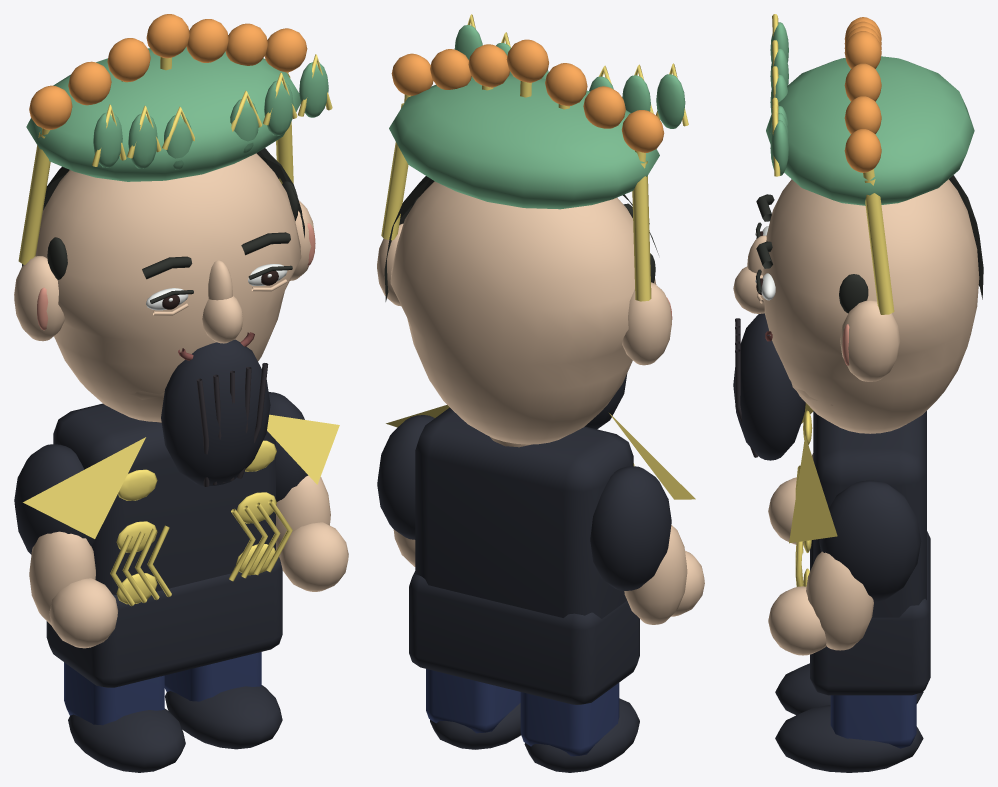
Rendered from longlong-15.glb.
3 renders of one model, left to right at view 1: azimuth 30°, elevation 25°; view 2: azimuth 150°, elevation 25°; view 3: azimuth 270°, elevation 25°, orthographic. The views are drawn at different scales.
Parts seen in each view (by area): view 1: Trousers, Side-swept hair; view 2: Trousers, Side-swept hair; view 3: Trousers, Side-swept hair.
Boxes of the visible parts, box(x1,y1,x2,y2) form: Trousers: box(14, 14, 348, 772); Side-swept hair: box(22, 148, 339, 538); Trousers: box(377, 14, 704, 772); Side-swept hair: box(384, 176, 695, 499); Trousers: box(733, 14, 979, 772); Side-swept hair: box(789, 175, 983, 543).
Bounding box in the file's own units: 1.37 × 3 × 0.9592.
Materials: 2 (2 with a texture image).
